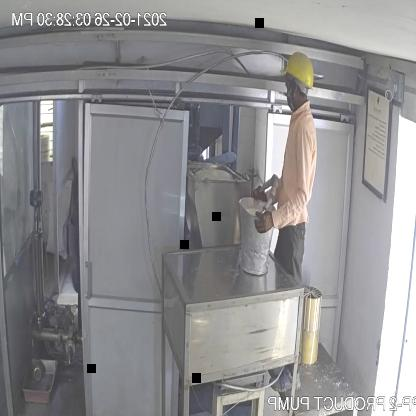helmet: (279, 47, 316, 91)
